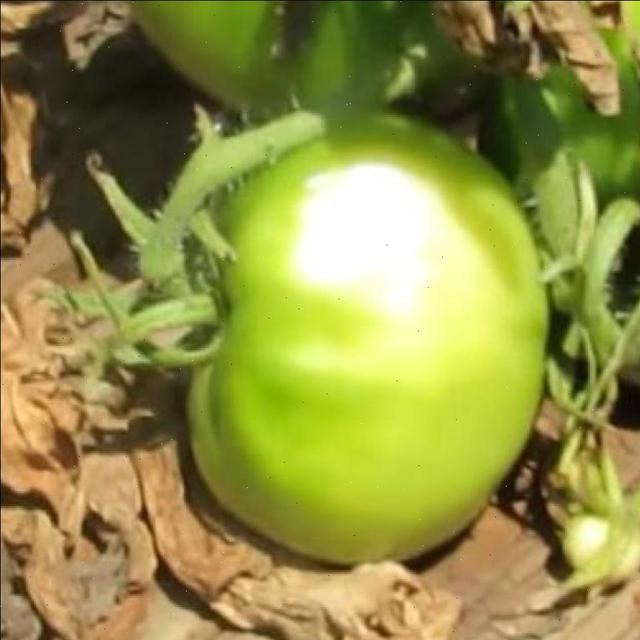Sunscald Fruit: (181, 96, 320, 242)
